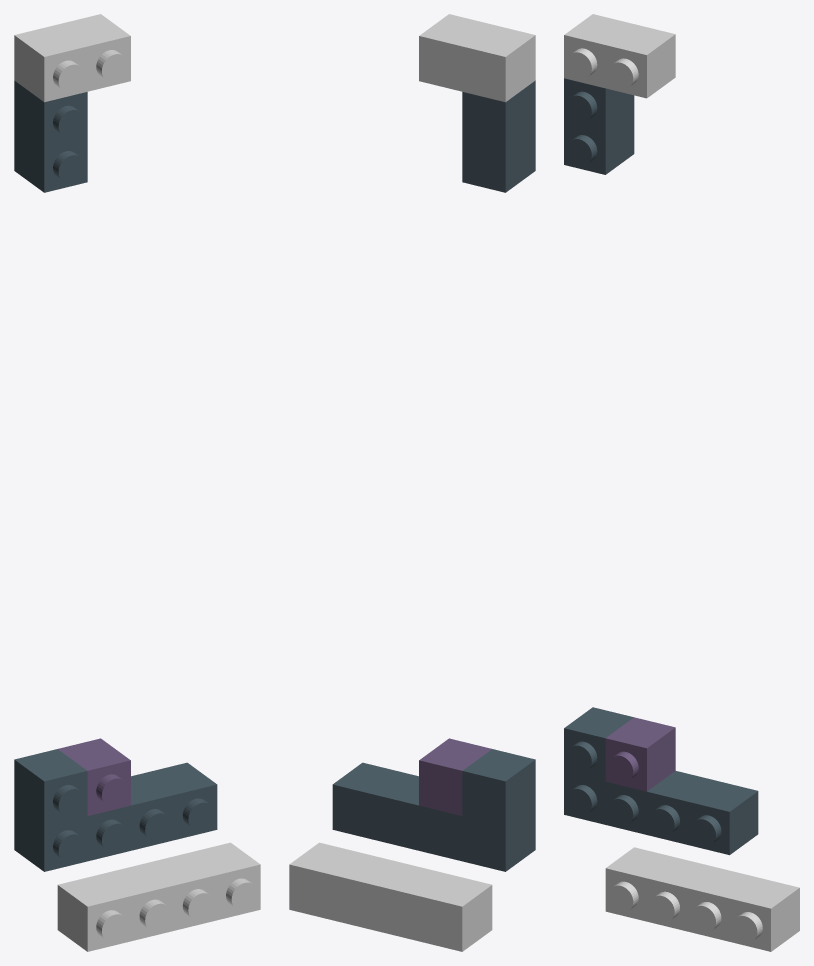
Rendered from current.glb.
3 views of the same model, side by side, from view 1: azimuth 30°, elevation 25°; view 2: azimuth 150°, elevation 25°; view 3: azimuth 330°, elevation 25° (orthographic). The views are drawn at different scales.
Parts seen in each view (by area): view 1: world; view 2: world; view 3: world.
Boxes of the visible parts, <box> form: world: <box>14,14,260,951</box>; world: <box>289,14,535,951</box>; world: <box>564,14,799,951</box>.
Bounding box in the file's own units: 40 × 160 × 11.4.
